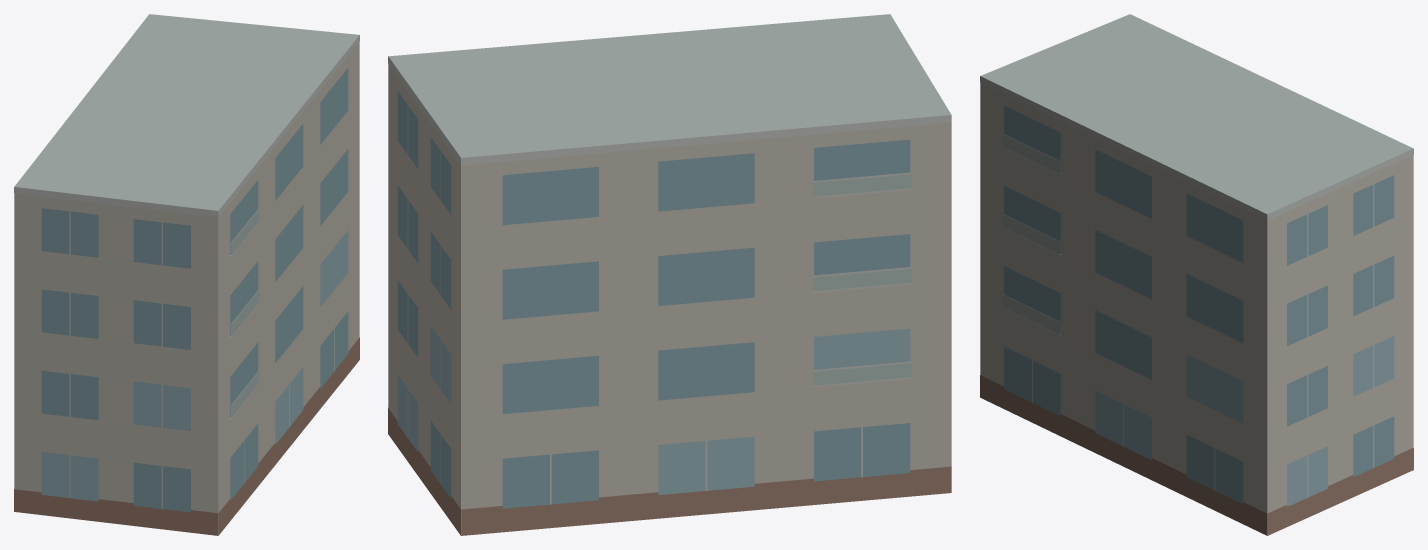
The model's file is residential-682374cc-c7ae-4f7e-b735-1fb7ee2ce645.glb.
The picture shows the model from 3 angles, left to right: view 1: azimuth 30°, elevation 25°; view 2: azimuth 150°, elevation 25°; view 3: azimuth 270°, elevation 25°; orthographic projection. The views are drawn at different scales.
Parts seen in each view (by area): view 1: residential-682374cc-c7ae-4f7e-b735-1fb7ee2ce645.tmp; view 2: residential-682374cc-c7ae-4f7e-b735-1fb7ee2ce645.tmp; view 3: residential-682374cc-c7ae-4f7e-b735-1fb7ee2ce645.tmp.
Boxes of the visible parts, box(x1,y1,x2,y2) form: residential-682374cc-c7ae-4f7e-b735-1fb7ee2ce645.tmp: box(14, 14, 359, 535); residential-682374cc-c7ae-4f7e-b735-1fb7ee2ce645.tmp: box(388, 14, 951, 535); residential-682374cc-c7ae-4f7e-b735-1fb7ee2ce645.tmp: box(980, 14, 1413, 535).
Bounding box in the file's own units: 16.31 × 12.2 × 14.91.
